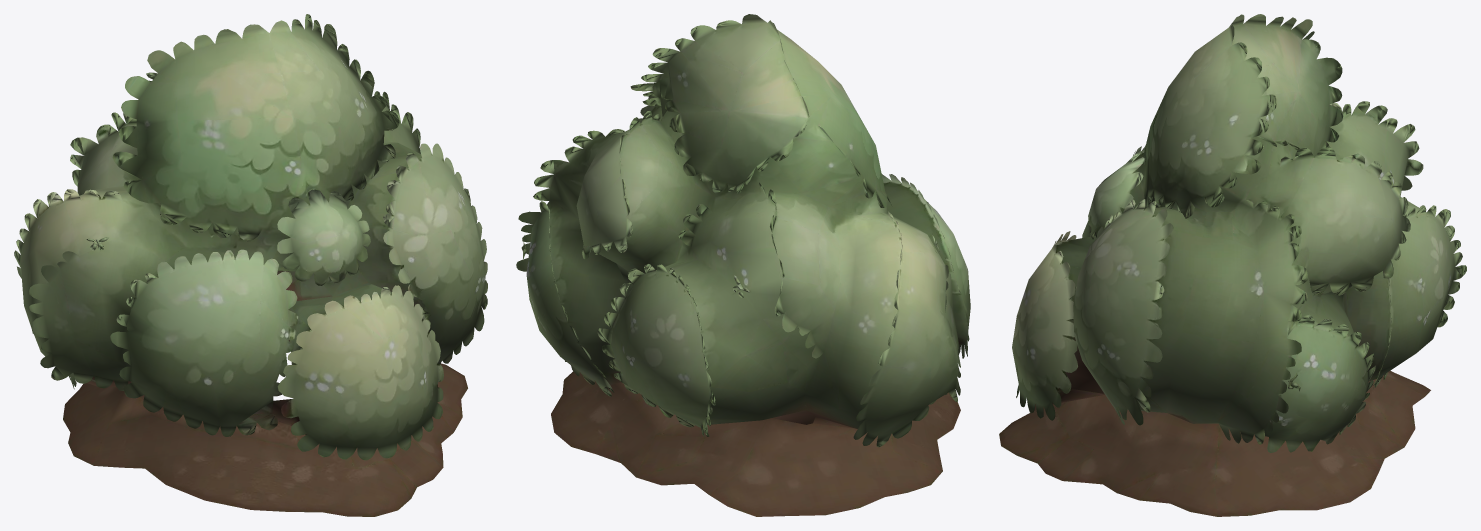
File: nat_bush_a_v1.glb
3 views of the same model, side by side, from view 1: azimuth 30°, elevation 25°; view 2: azimuth 150°, elevation 25°; view 3: azimuth 270°, elevation 25° (orthographic). The views are drawn at different scales.
Parts seen in each view (by area): view 1: tripo_node_7cdeba88-0e21-40ba-af79-65f449180318; view 2: tripo_node_7cdeba88-0e21-40ba-af79-65f449180318; view 3: tripo_node_7cdeba88-0e21-40ba-af79-65f449180318.
Boxes of the visible parts, bbox=[...] form: tripo_node_7cdeba88-0e21-40ba-af79-65f449180318: bbox=[14, 14, 487, 516]; tripo_node_7cdeba88-0e21-40ba-af79-65f449180318: bbox=[516, 14, 970, 516]; tripo_node_7cdeba88-0e21-40ba-af79-65f449180318: bbox=[999, 14, 1466, 516].
Bounding box in the file's own units: 0.998 × 0.9082 × 0.9238.
1 material, 1 textured.
